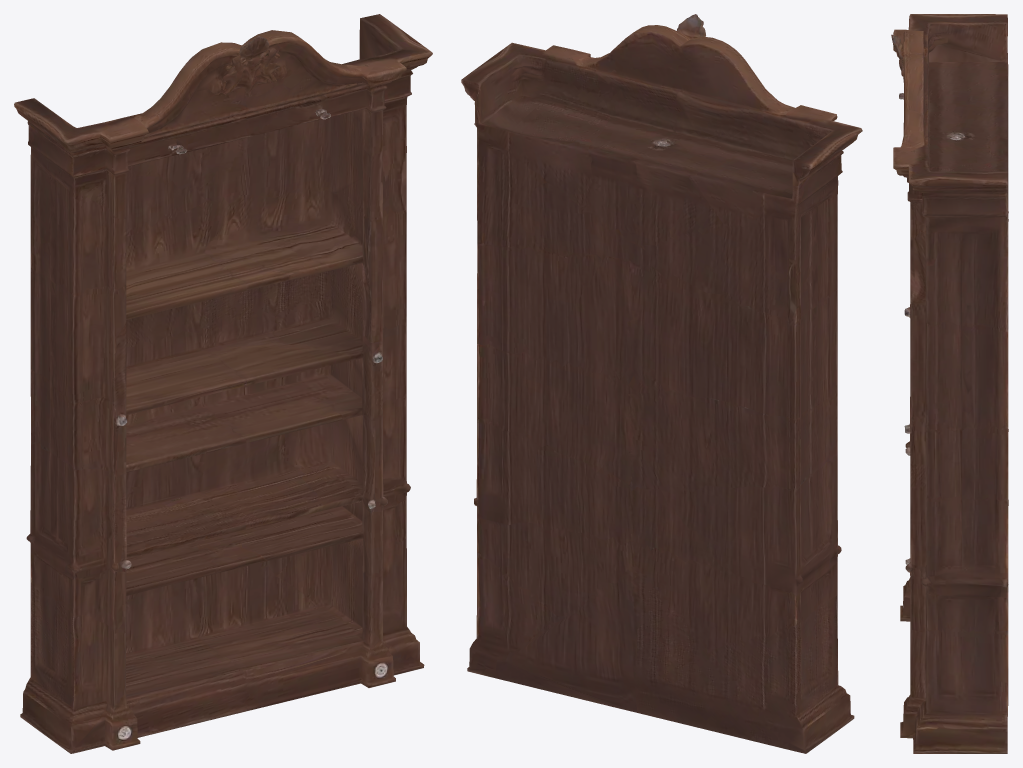
Rendered from liquor_shelf.glb.
The picture shows the model from 3 angles, left to right: view 1: azimuth 30°, elevation 25°; view 2: azimuth 150°, elevation 25°; view 3: azimuth 270°, elevation 25°; orthographic projection. The views are drawn at different scales.
Bounding box in the file's own units: 1.06 × 1.9 × 0.3151.
Materials: 1 (1 with a texture image).
